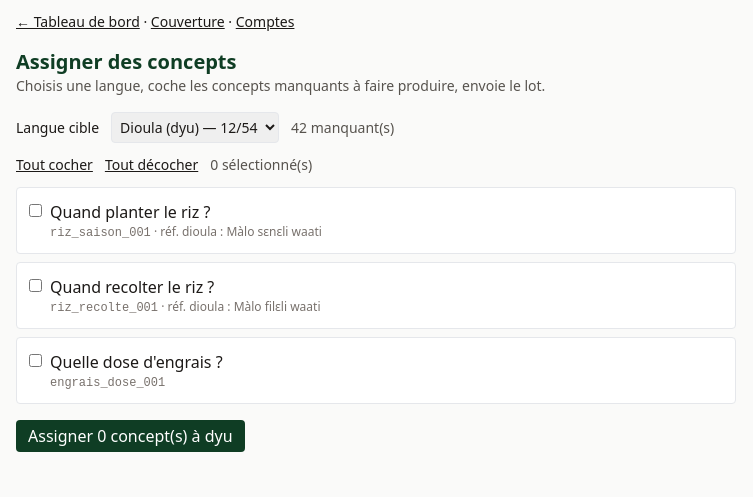
AssignView — assignation par lot › affiche l'erreur de l'API et conserve le lot pour un nouvel essai
Click the button "Tout cocher": (54, 165) [16,155,93,175]
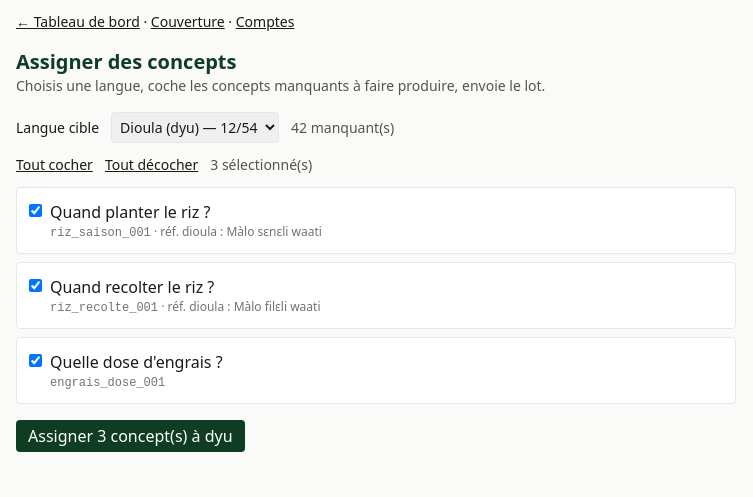
Click the button "Assigner 3 concept(s) à dyu": (130, 436) [16,420,244,452]
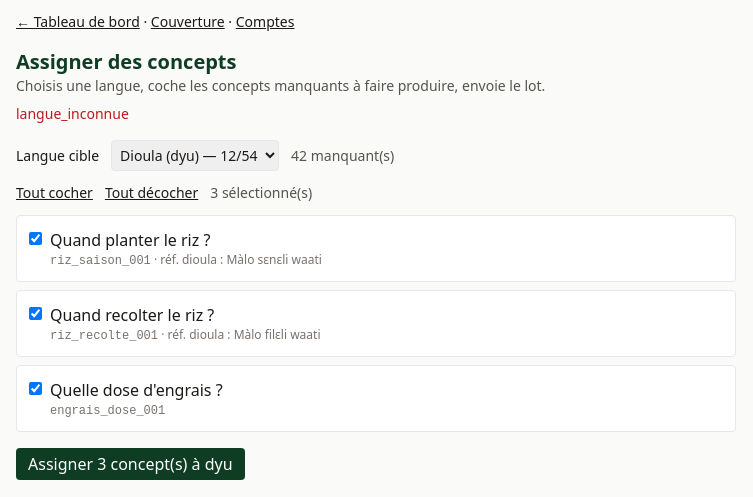
Expected: the text "3 sélectionné(s)" is shown, [210,183,312,202]
Expected: the text "langue_inconnue" is shown, [16,104,129,123]
